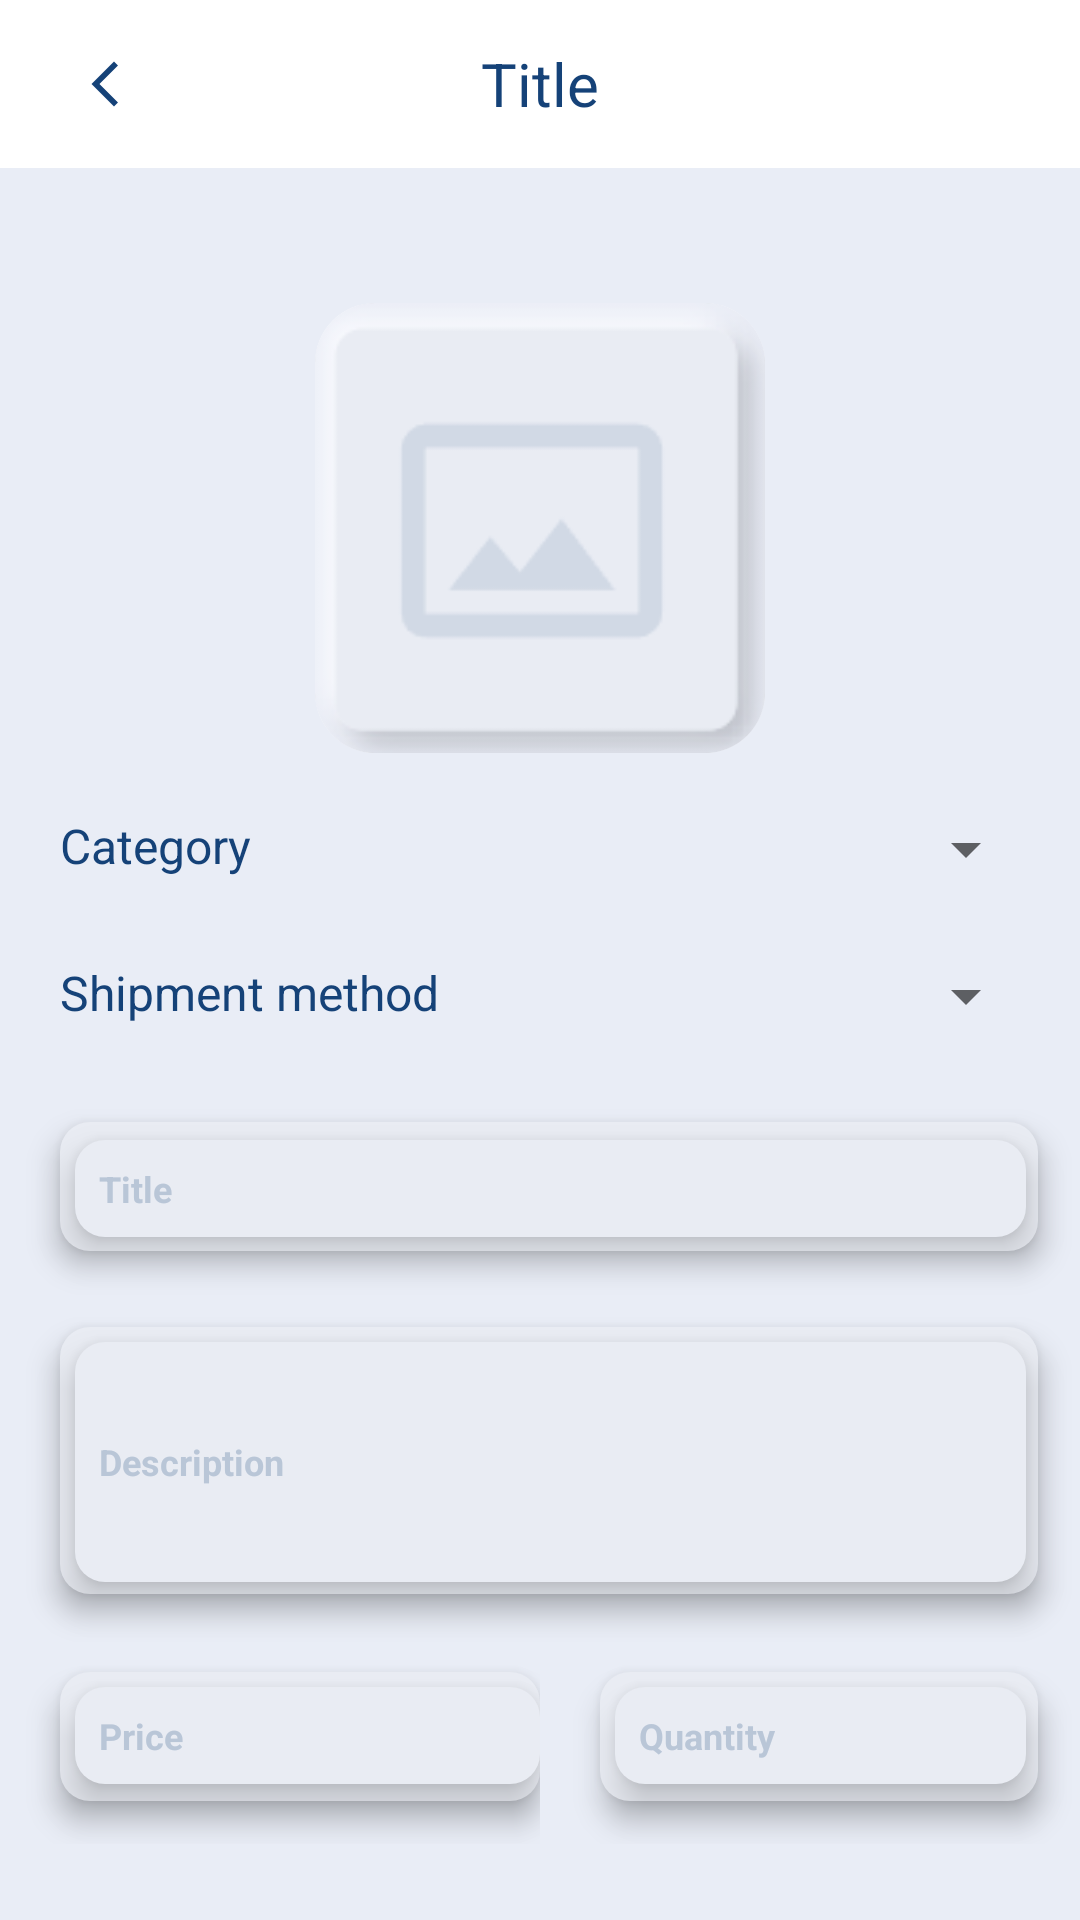

Icons on this 1080x1920 Android screen, each with the point to tap as point (x, y):
Back Button: point (104, 84)
